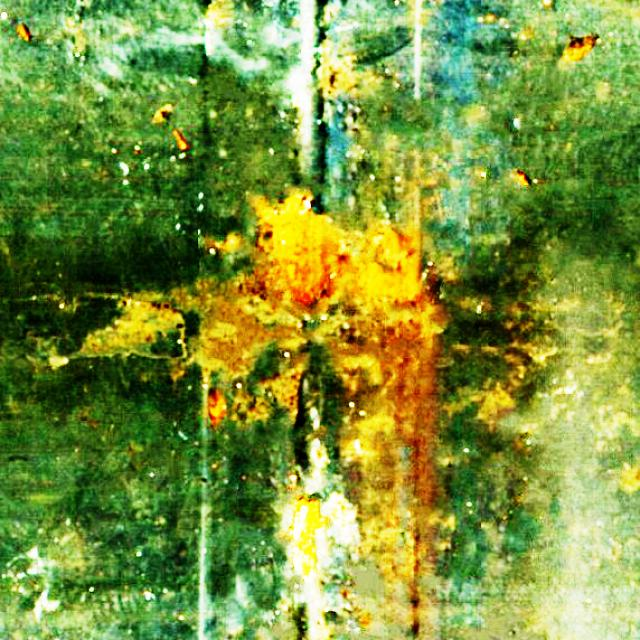Corrosion: (256, 194, 353, 304), (353, 230, 418, 302), (293, 493, 326, 581), (328, 497, 354, 544), (564, 37, 595, 61), (207, 391, 225, 424), (172, 130, 186, 150), (17, 21, 31, 40), (518, 172, 531, 185)
